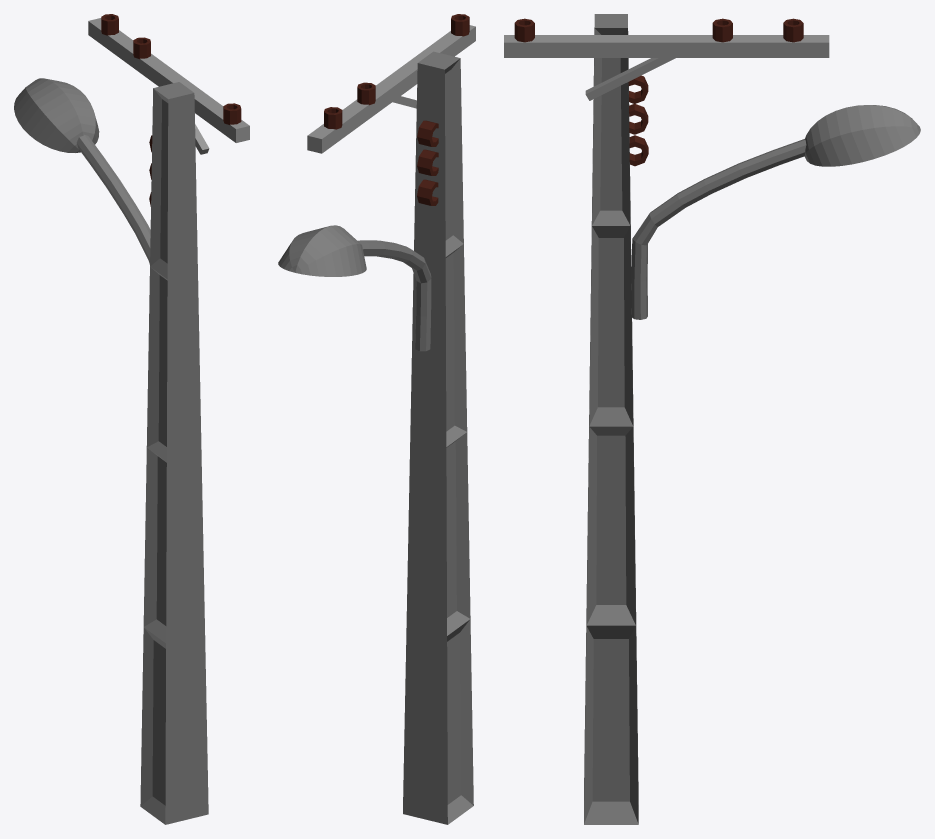
File: poste.de.luz 1.fbx
3 views of the same model, side by side, from view 1: azimuth 30°, elevation 25°; view 2: azimuth 150°, elevation 25°; view 3: azimuth 270°, elevation 25° (orthographic). The views are drawn at different scales.
Visible parts, largest first — view 1: Cube; view 2: Cube; view 3: Cube.
Part boxes in pixels (x1=…): Cube: x1=14, y1=14, x2=249, y2=824; Cube: x1=278, y1=14, x2=475, y2=824; Cube: x1=504, y1=14, x2=920, y2=824.
Bounding box in the file's own units: 51.05 × 526 × 248.
